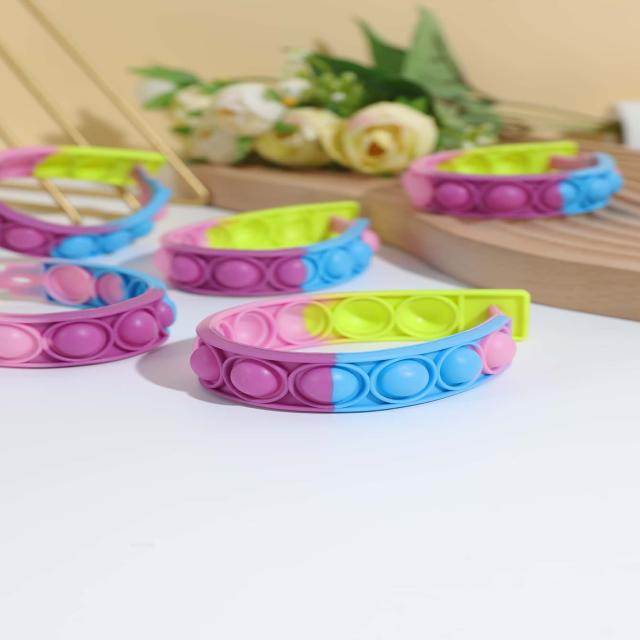bracelet: (170, 268, 640, 441)
